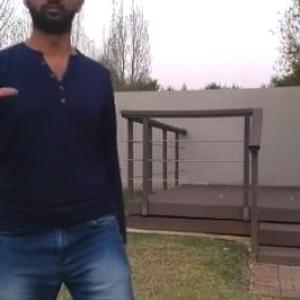land_hand: (0, 23, 22, 120)
